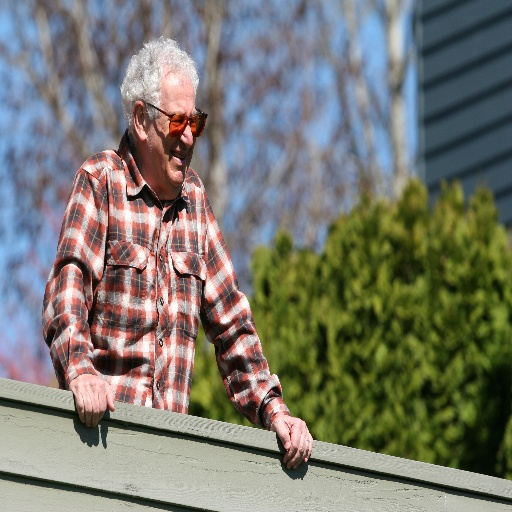hand: (269, 395, 321, 482), (68, 371, 116, 431)
